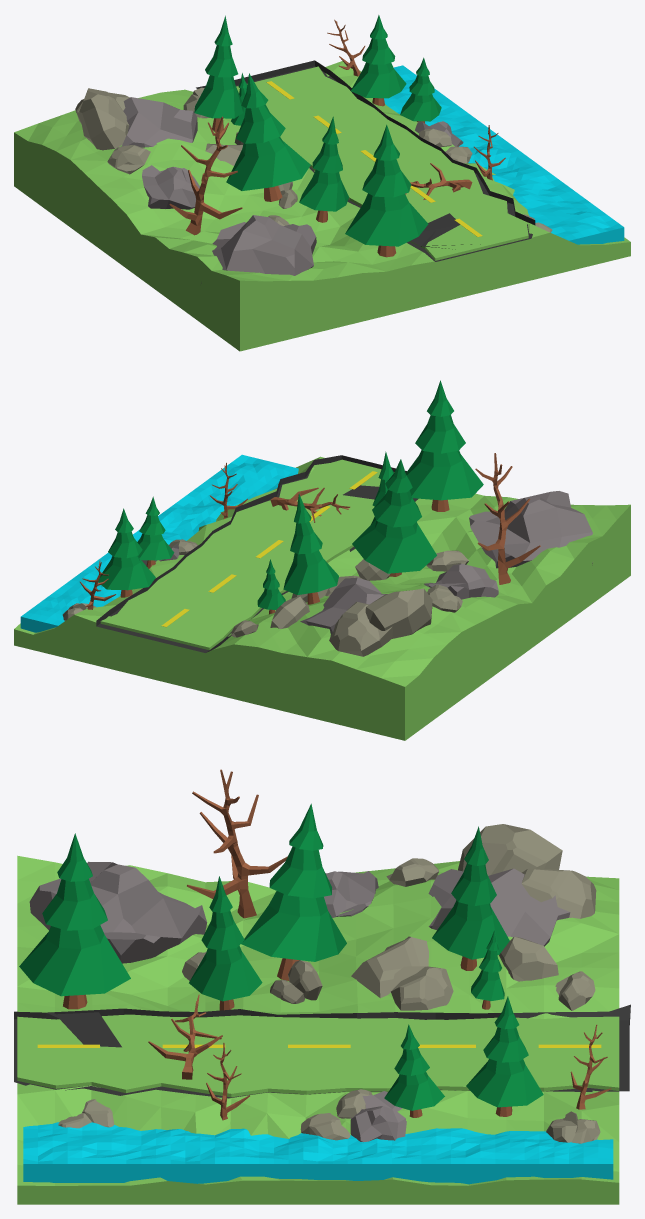
File: forest2-gltf.gltf
3 renders of one model, top to bottom at view 1: azimuth 30°, elevation 25°; view 2: azimuth 150°, elevation 25°; view 3: azimuth 270°, elevation 25°, orthographic. The views are drawn at different scales.
Parts seen in each view (by area): view 1: Terrain, Water, Tree.002, Tree, Rock, Road, Rock.004, Tree.001, Tree.003, Tree.005, Rock.017, Rock.019 (+5 smaller); view 2: Terrain, Water, Rock, Tree.002, Tree, Tree.001, Road, Rock.017, Tree.005, Rock.001, Rock.004, Dead tree.002 (+8 smaller); view 3: Terrain, Water, Tree.002, Tree, Rock, Road, Tree.001, Rock.004, Tree.003, Tree.005, Rock.017, Dead tree.002 (+18 smaller).
Boxes of the visible parts, bbox=[...] form: Terrain: bbox=[14, 61, 630, 351]; Water: bbox=[384, 65, 624, 244]; Tree.002: bbox=[345, 124, 428, 257]; Tree: bbox=[226, 73, 310, 201]; Rock: bbox=[201, 215, 316, 283]; Road: bbox=[196, 60, 535, 261]; Rock.004: bbox=[122, 97, 197, 147]; Tree.001: bbox=[194, 15, 243, 133]; Tree.003: bbox=[299, 116, 348, 222]; Tree.005: bbox=[350, 15, 406, 106]; Rock.017: bbox=[79, 88, 129, 150]; Rock.019: bbox=[142, 165, 199, 209]; Terrain: bbox=[14, 456, 630, 740]; Water: bbox=[20, 454, 298, 632]; Rock: bbox=[469, 491, 592, 568]; Tree.002: bbox=[406, 380, 483, 511]; Tree: bbox=[352, 459, 436, 576]; Tree.001: bbox=[283, 493, 338, 604]; Road: bbox=[96, 455, 418, 652]; Rock.017: bbox=[365, 588, 432, 638]; Tree.005: bbox=[98, 508, 155, 597]; Rock.001: bbox=[329, 601, 392, 656]; Rock.004: bbox=[300, 577, 386, 634]; Dead tree.002: bbox=[475, 453, 540, 584]; Terrain: bbox=[17, 855, 619, 1204]; Water: bbox=[23, 1122, 613, 1184]; Tree.002: bbox=[19, 833, 130, 1009]; Tree: bbox=[241, 803, 346, 980]; Rock: bbox=[29, 861, 207, 963]; Road: bbox=[14, 1004, 630, 1098]; Tree.001: bbox=[432, 826, 509, 970]; Rock.004: bbox=[428, 868, 570, 946]; Tree.003: bbox=[189, 876, 262, 1010]; Tree.005: bbox=[466, 996, 543, 1116]; Rock.017: bbox=[458, 824, 562, 875]; Dead tree.002: bbox=[187, 769, 287, 918].
Size of the model in its own units: 10.01 by 4.17 by 10.25.
